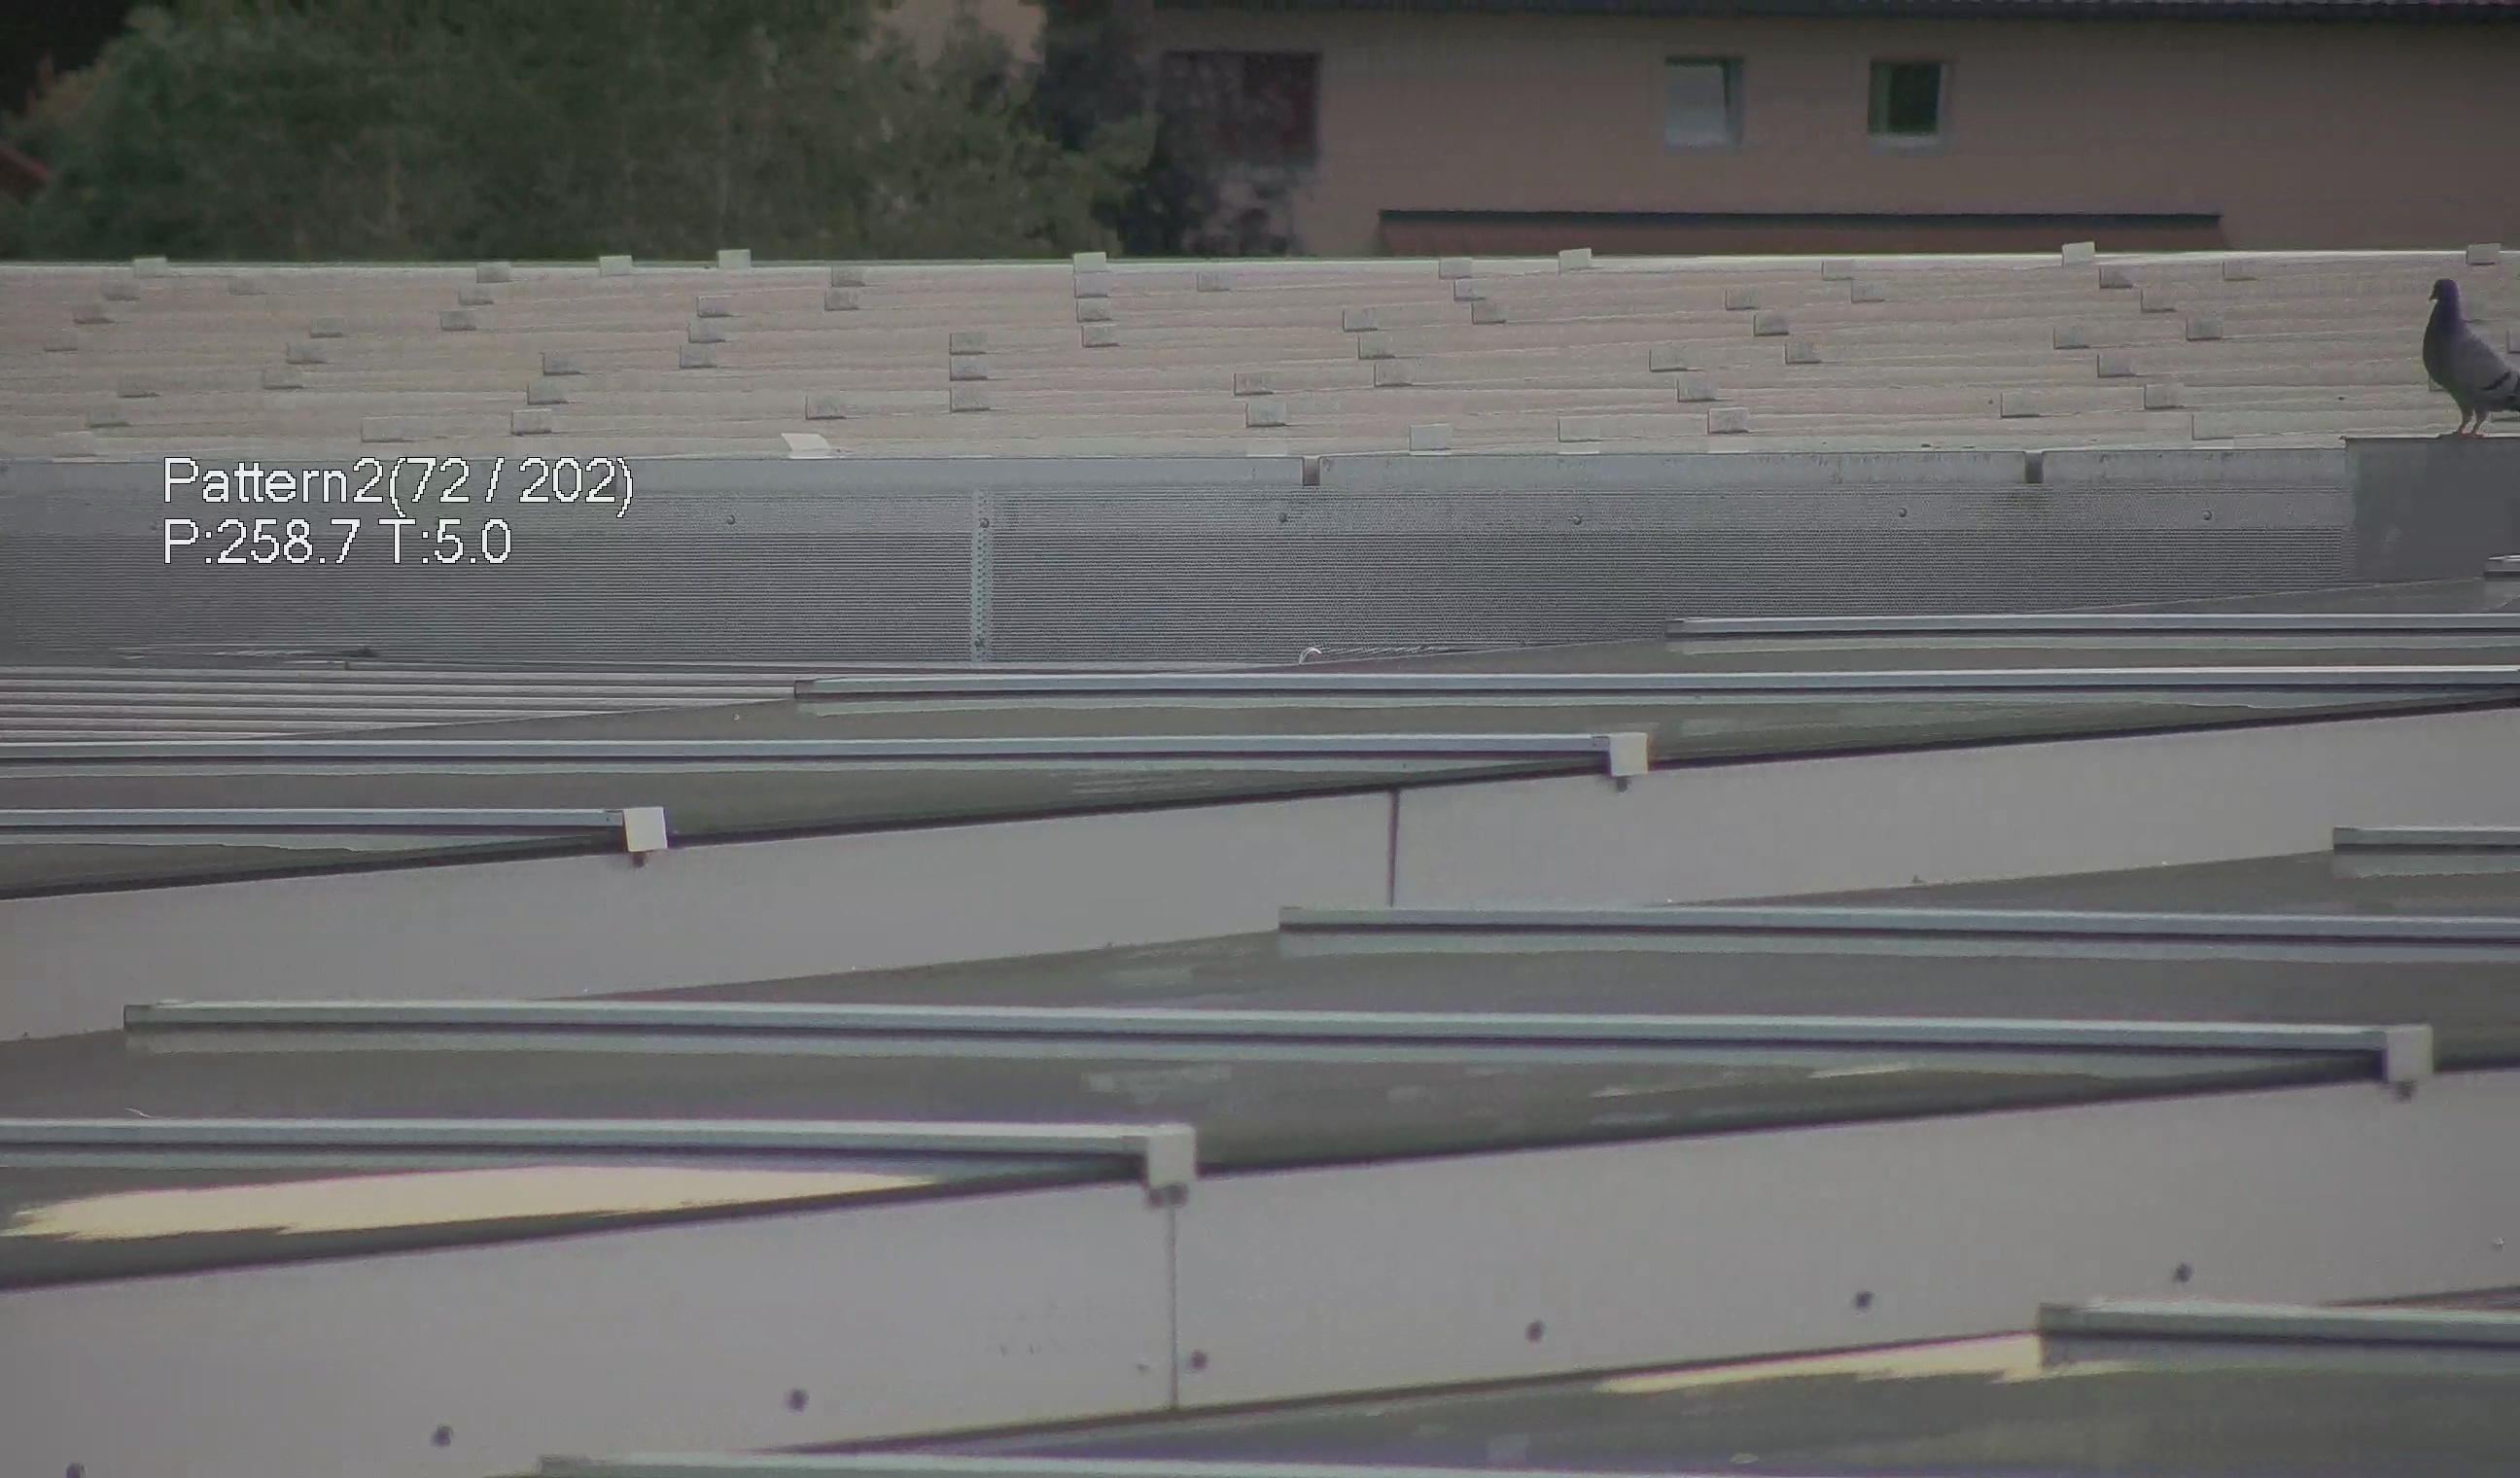Pigeon: (2414, 259, 2520, 431)
